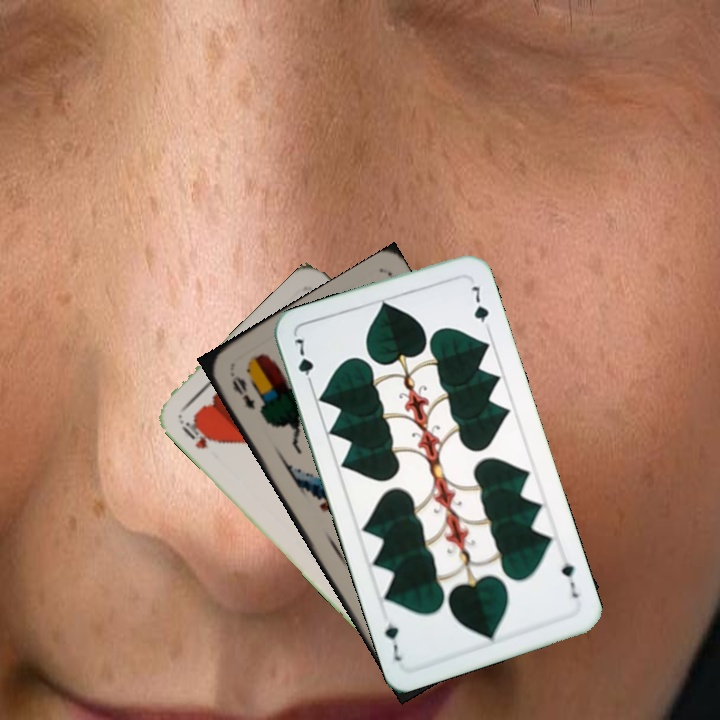EO: (228, 371, 258, 412)
G7: (290, 333, 317, 391), (557, 558, 581, 601)
HO: (175, 412, 219, 452)
